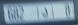2: (18, 5, 25, 22)
6: (7, 7, 14, 20)
8: (63, 3, 72, 19), (13, 6, 19, 21)
d: (41, 7, 49, 18)
